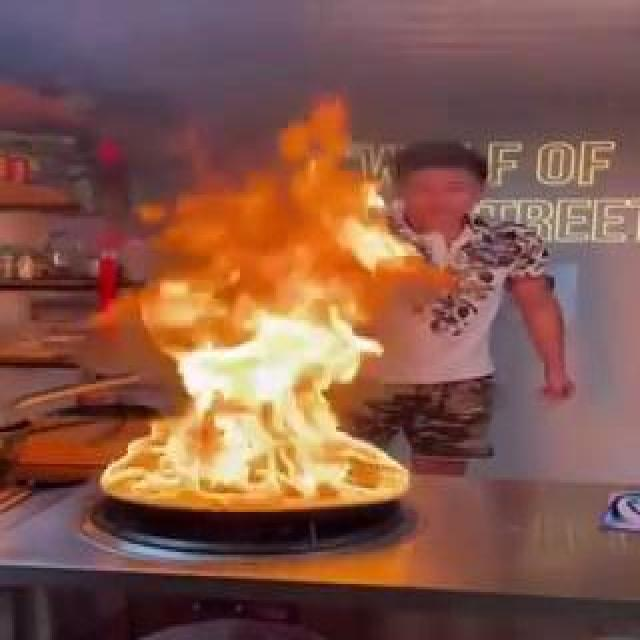Fire: (243, 338, 338, 358)
